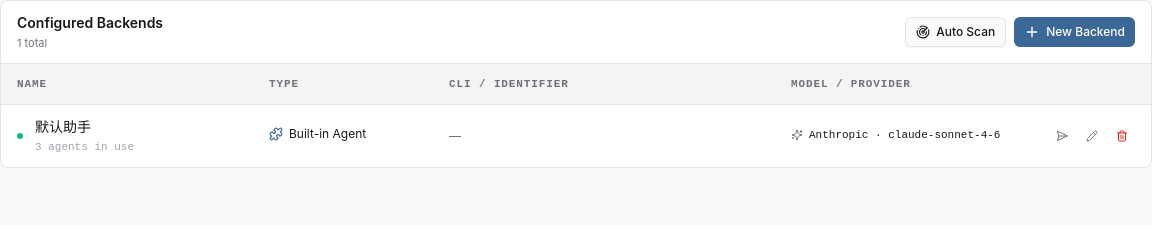
AgentBackendsPanel › clicking 测试连接 on a row shows error flash on OK=false
Expected: the text "默认助手" is shown, [35,116,91,136]
Step 1. Click the button named "Test connection" → (1062, 136), box [1049,122,1075,148]
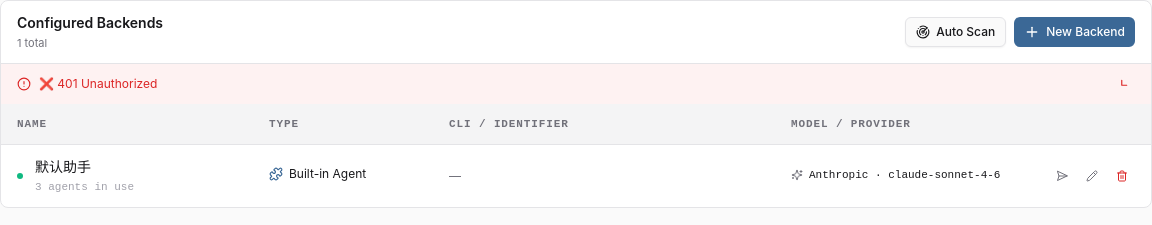
Expected: the text "❌ 401 Unauthorized" is shown, [39,76,157,91]
